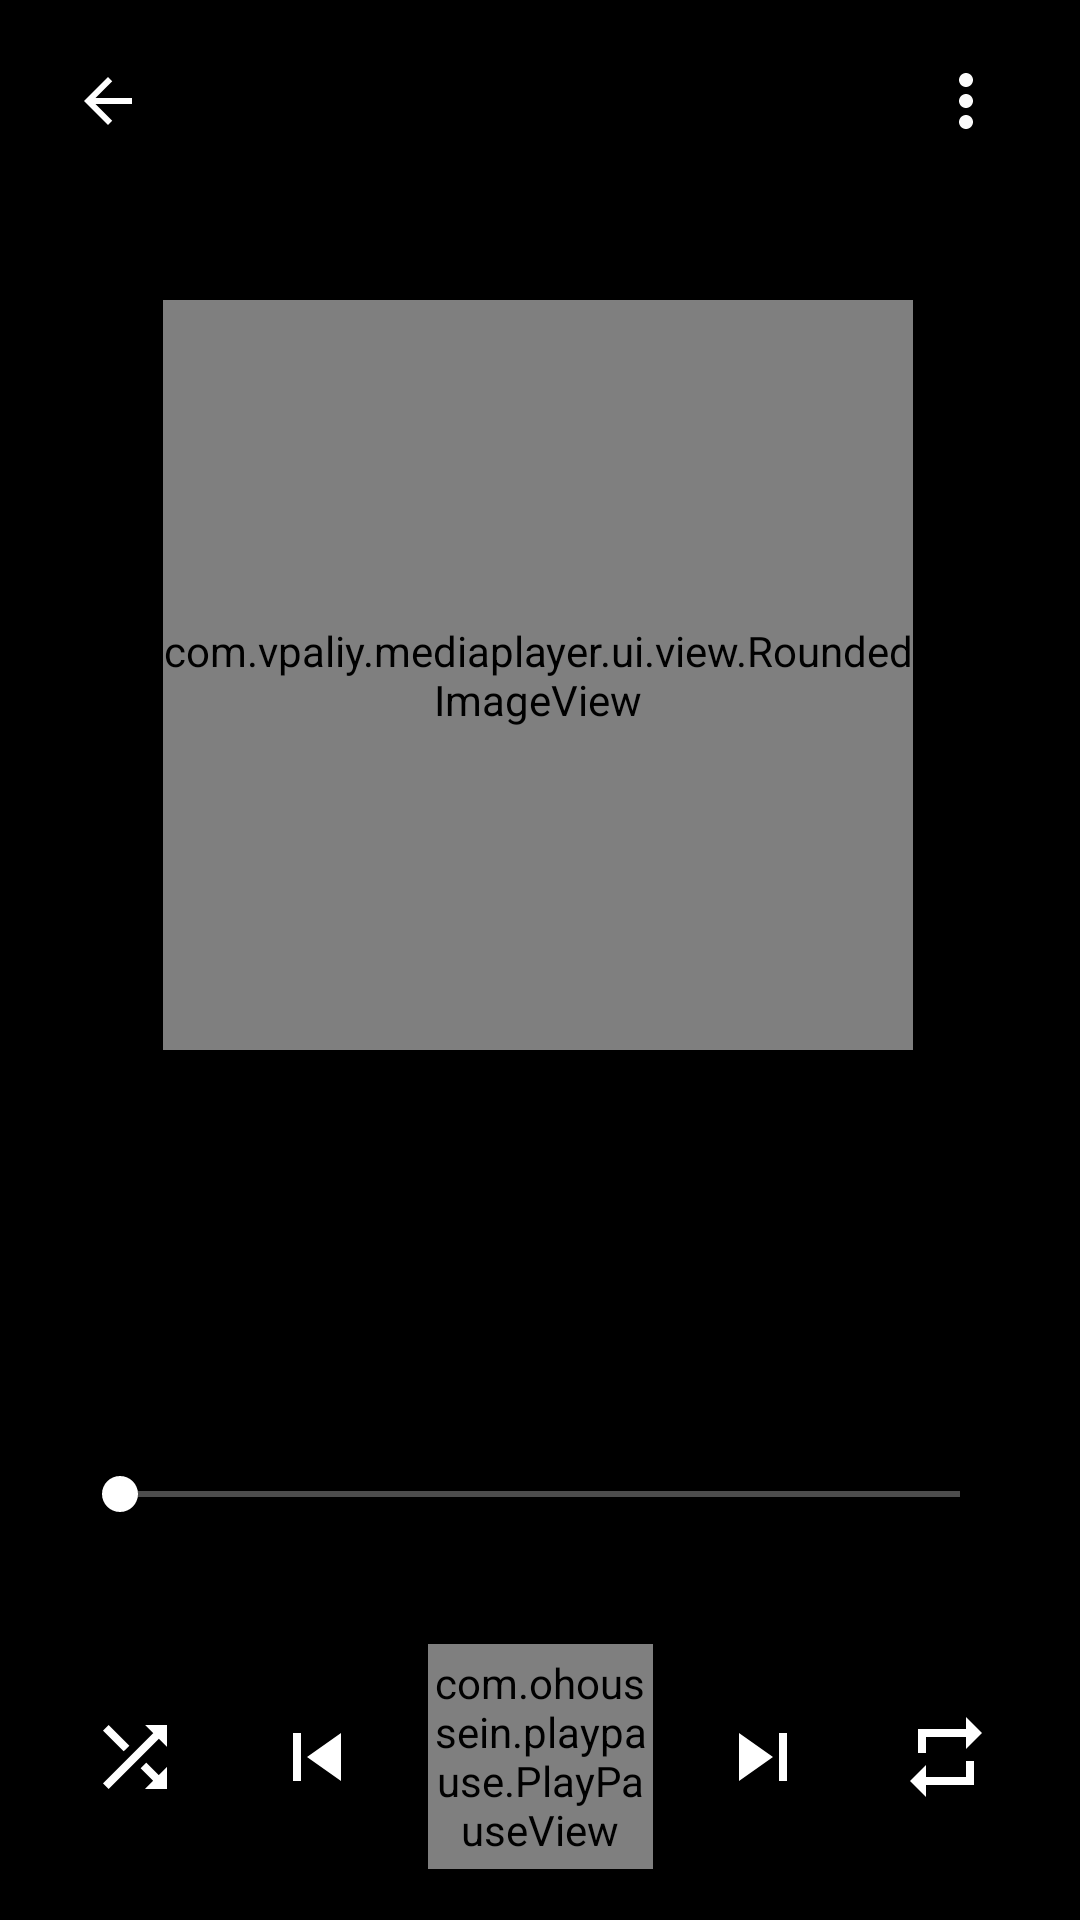

Locate icon controls on the screen. Image size 1080w x 1920h, boxes as {"x1": x1, "y1": y1, "x2": x2, "y2": y2}.
more: {"x1": 959, "y1": 73, "x2": 973, "y2": 129}
next: {"x1": 739, "y1": 1733, "x2": 787, "y2": 1781}
prev: {"x1": 293, "y1": 1733, "x2": 341, "y2": 1781}
repeat: {"x1": 910, "y1": 1717, "x2": 982, "y2": 1797}
shuffle: {"x1": 103, "y1": 1725, "x2": 167, "y2": 1789}
